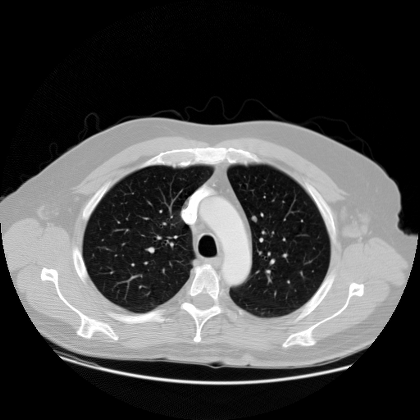nodule: (250, 215, 258, 223)
